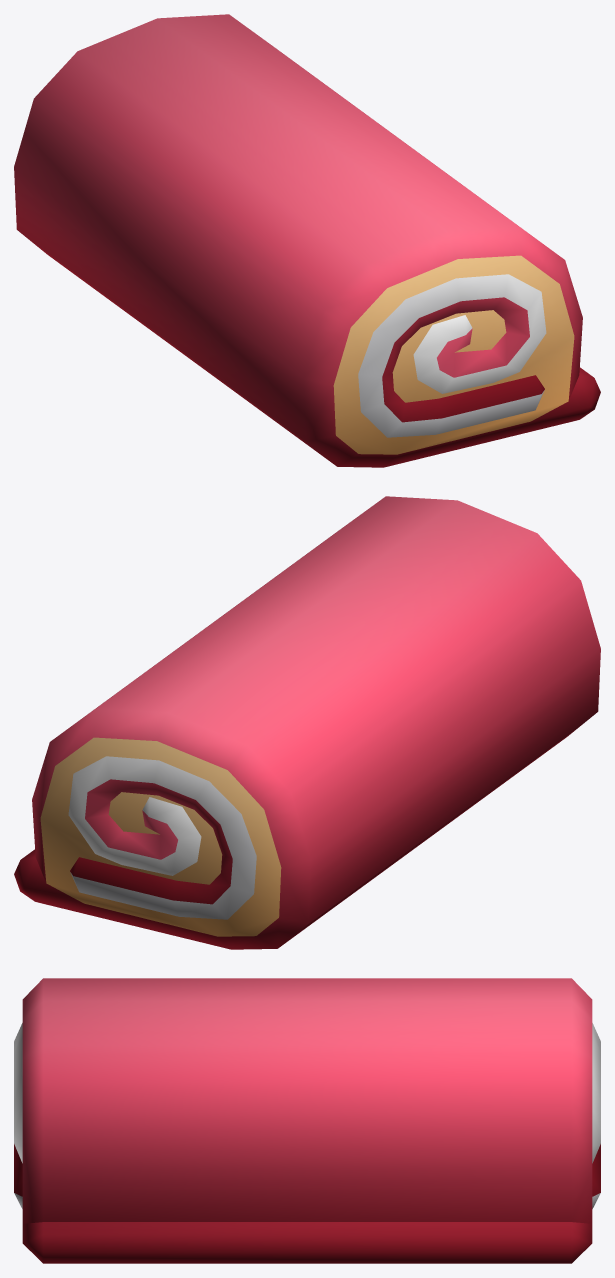
Rendered from m_BiscuitRoll03.fbx.
3 renders of one model, top to bottom at view 1: azimuth 30°, elevation 25°; view 2: azimuth 150°, elevation 25°; view 3: azimuth 270°, elevation 25°, orthographic. The views are drawn at different scales.
Parts seen in each view (by area): view 1: m_BiscuitRoll03; view 2: m_BiscuitRoll03; view 3: m_BiscuitRoll03.
Part boxes in pixels (<box>): m_BiscuitRoll03: <box>14,14,600,467</box>; m_BiscuitRoll03: <box>14,496,600,949</box>; m_BiscuitRoll03: <box>14,978,600,1263</box>.
Bounding box in the file's own units: 10.68 × 7.61 × 20.
